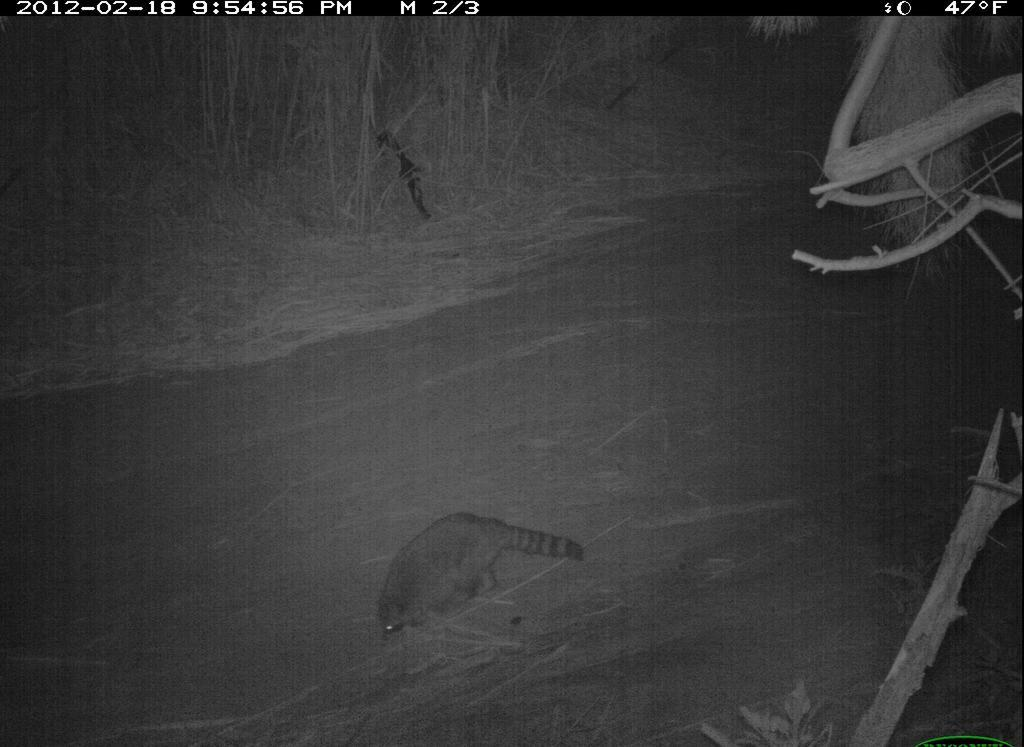raccoon: (370, 505, 593, 644)
